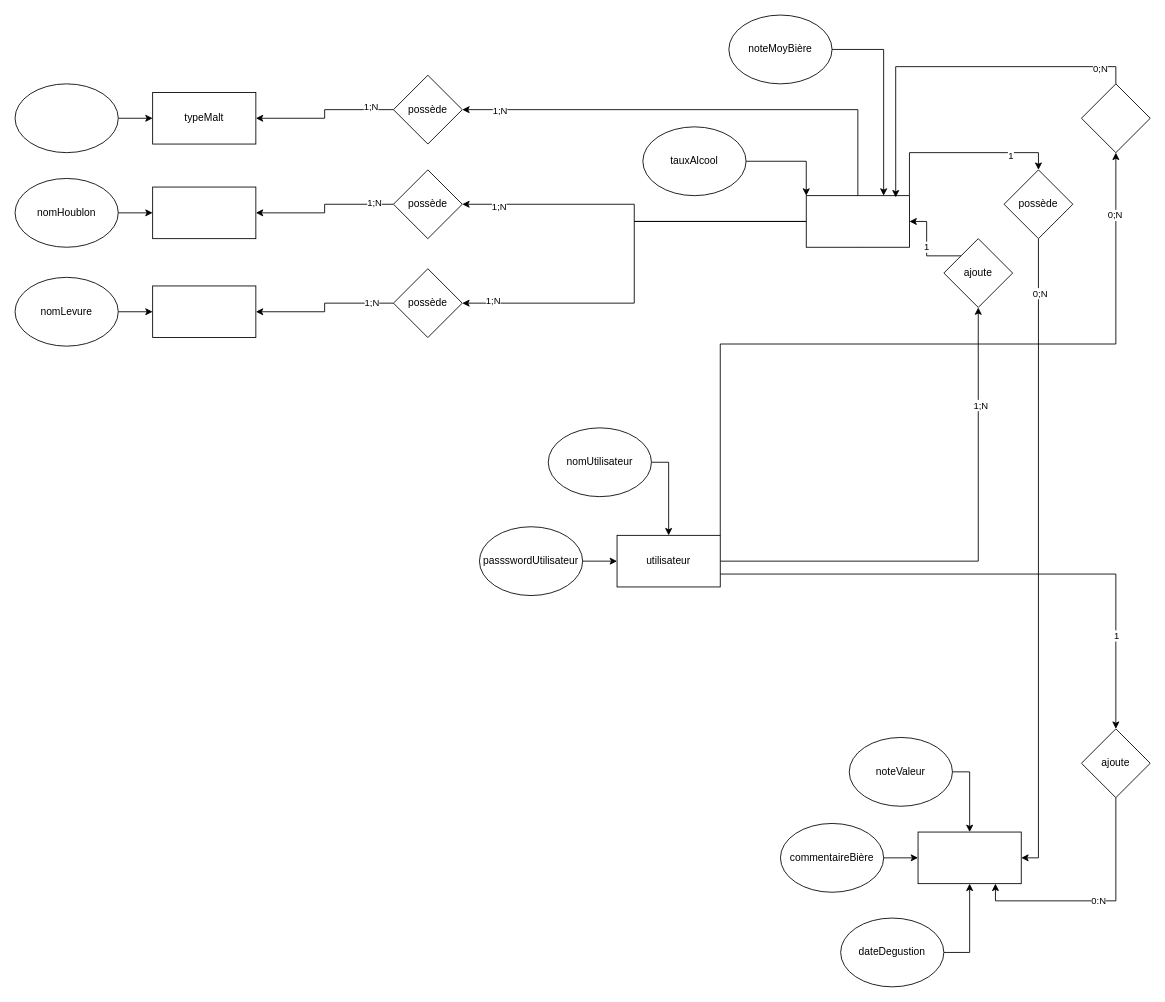
This 1165x1002 diagram has some shape labels left out. The box of each missing label's shape, as (x1, y1, x2, y2) in pixels:
Bière: (805, 195, 909, 247)
nomMalt: (14, 83, 118, 153)
note: (917, 831, 1021, 884)
recommande: (1081, 83, 1150, 153)
typeHoublon: (152, 186, 256, 239)
typeLevure: (152, 285, 256, 338)
